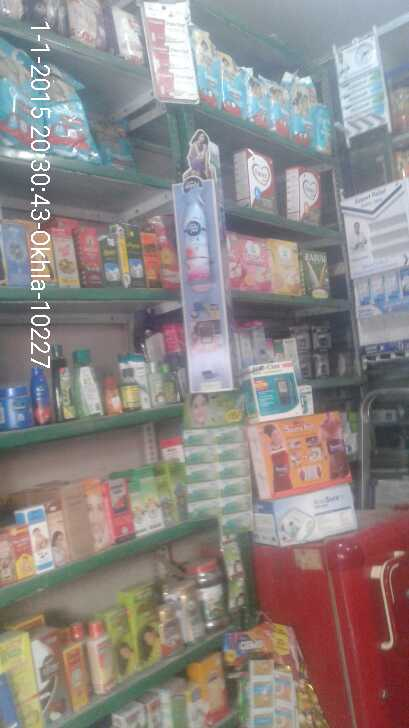home: (180, 185, 218, 292)
pharmacy: (42, 72, 98, 165), (189, 30, 221, 106), (222, 48, 246, 117), (245, 72, 271, 127), (293, 93, 315, 145), (314, 100, 336, 152), (271, 83, 292, 136)
